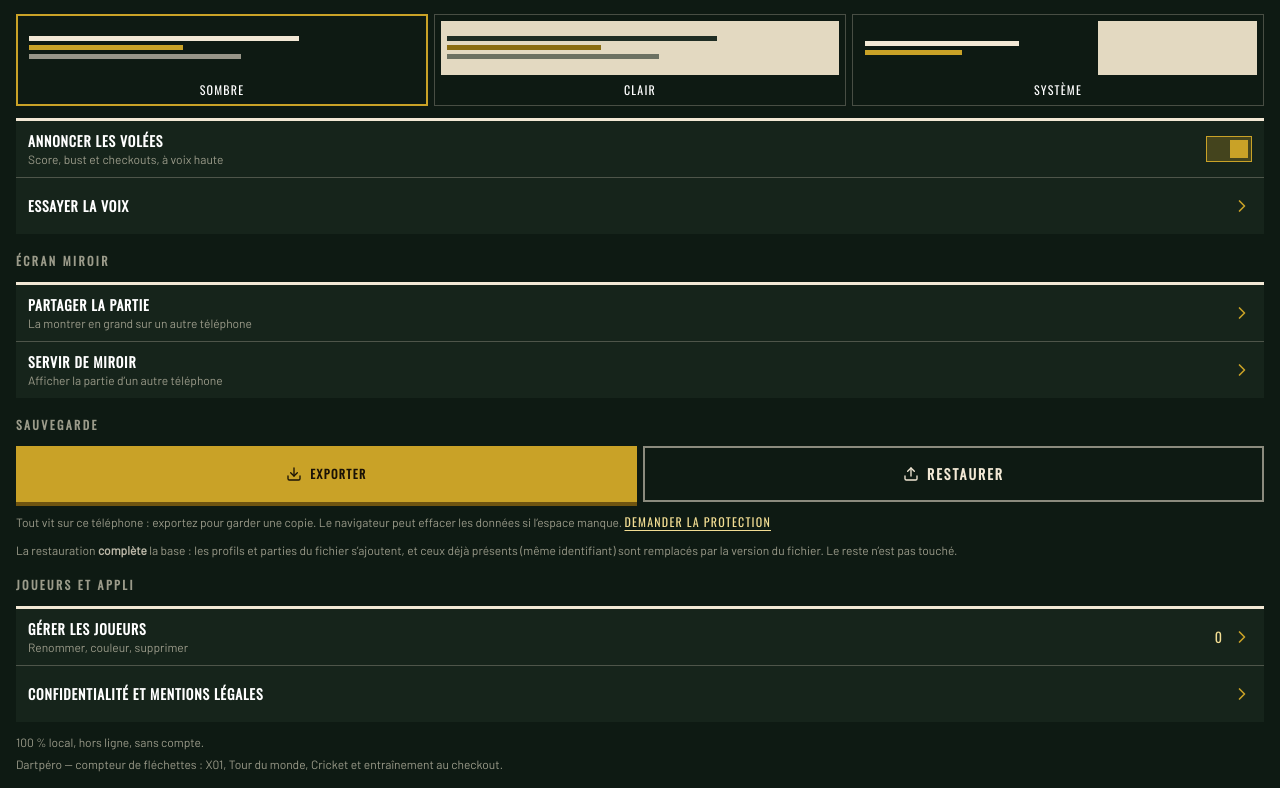
Test case: Installation — après un refus de « Demander la protection » › ios-manual : plus de lien sous la phrase, « Comment ? » seul y mène
This screenshot has width=1280, height=788.
(page scrolled)
What coordinates should you click on to do the following:
click the button "Demander la protection"
I would click on:
 (698, 522)
Its box is [624, 514, 771, 530].
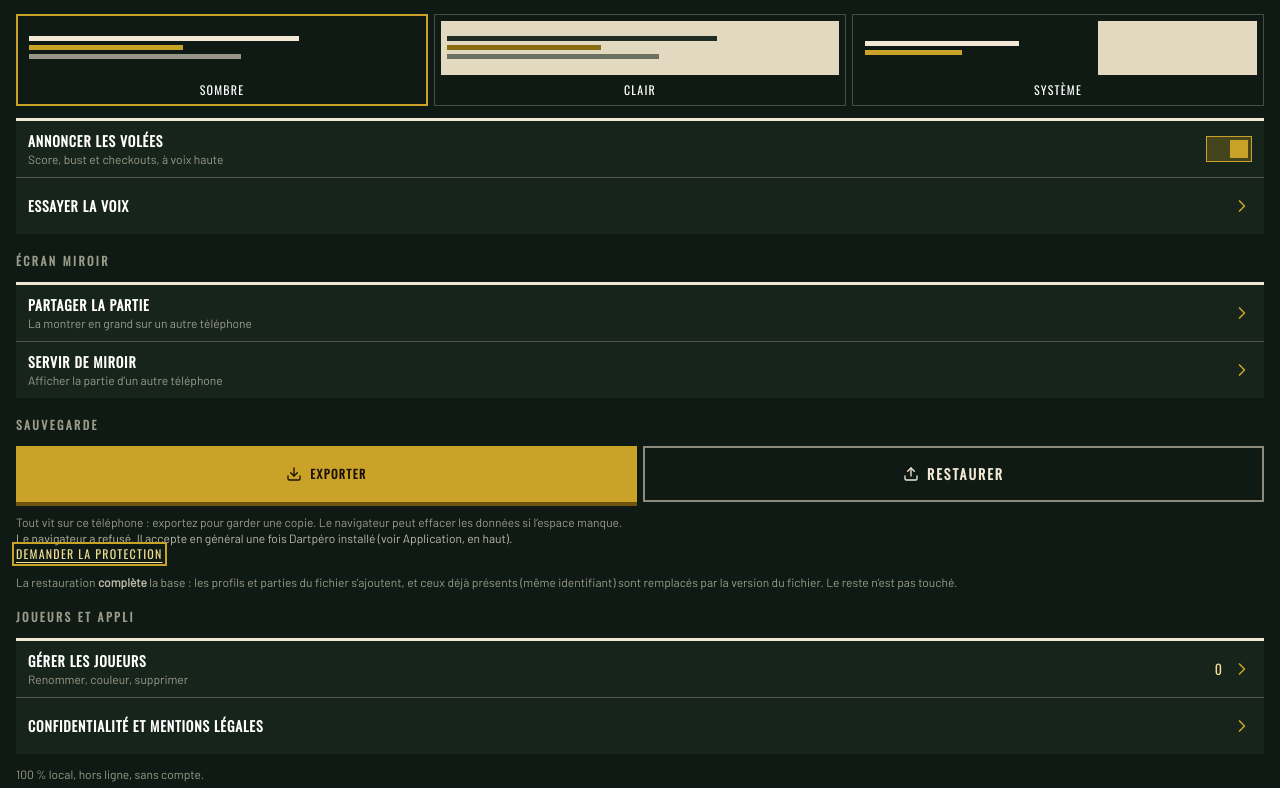
Check: the element named "Protection des données" shows "Le navigateur a refusé.", box [16, 531, 512, 545]
